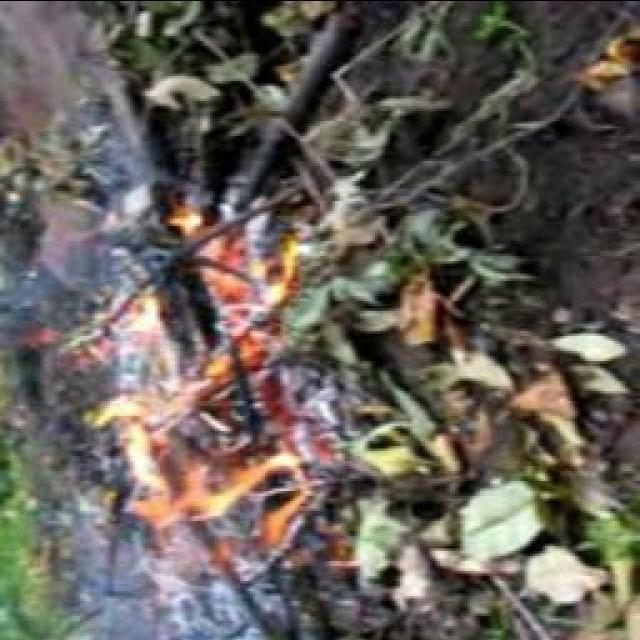Fire: (84, 200, 312, 584)
